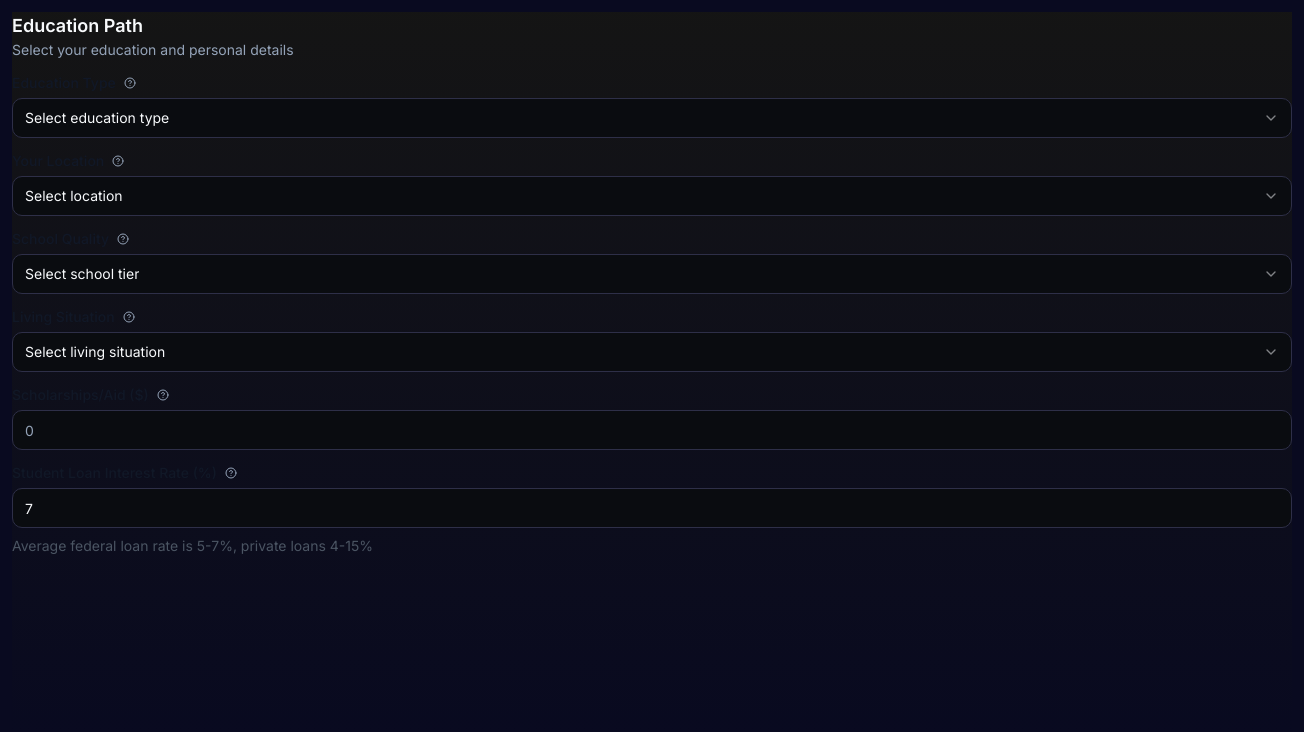
Scenario: PathBuilder Component › School Tier Selection › should display school tier options
Click the dropdown "Select school tier" at (82, 274), box [12,254,1292,294]
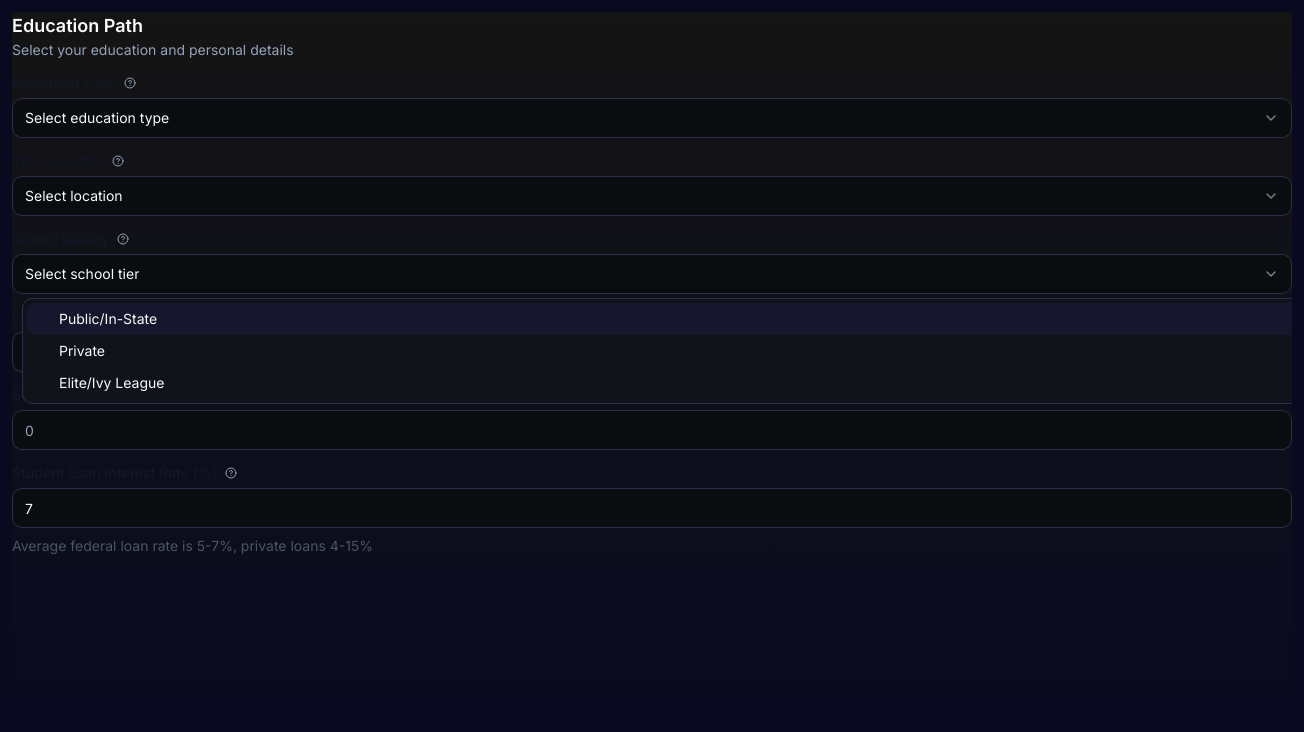
Result: the text "Public/In-State" is shown at [59,309,157,329]
Result: the text "Private" is shown at [59,341,105,361]
Result: the text "Elite/Ivy League" is shown at [59,373,164,393]
